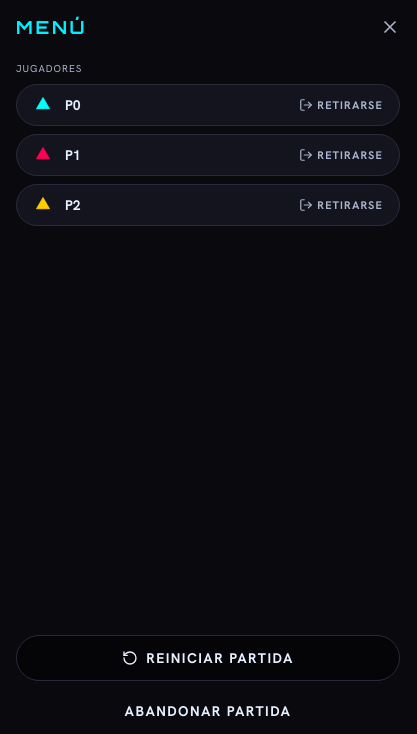
Test: ArenaMenu leave confirmation › keeps the normal "rest keep playing" message when three or more players remain
The image size is (417, 734).
Click the button with test id "leave-0".
click(341, 105)  # box [299,97,383,113]
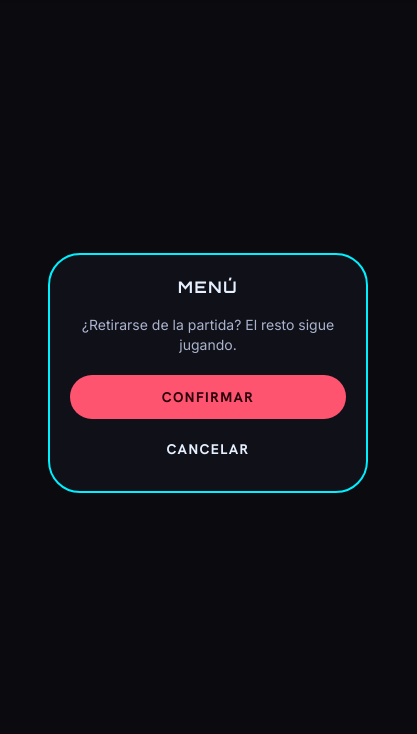
Now the text "¿Retirarse de la partida? El resto sigue jugando." is shown, box [70,315,346,355]
